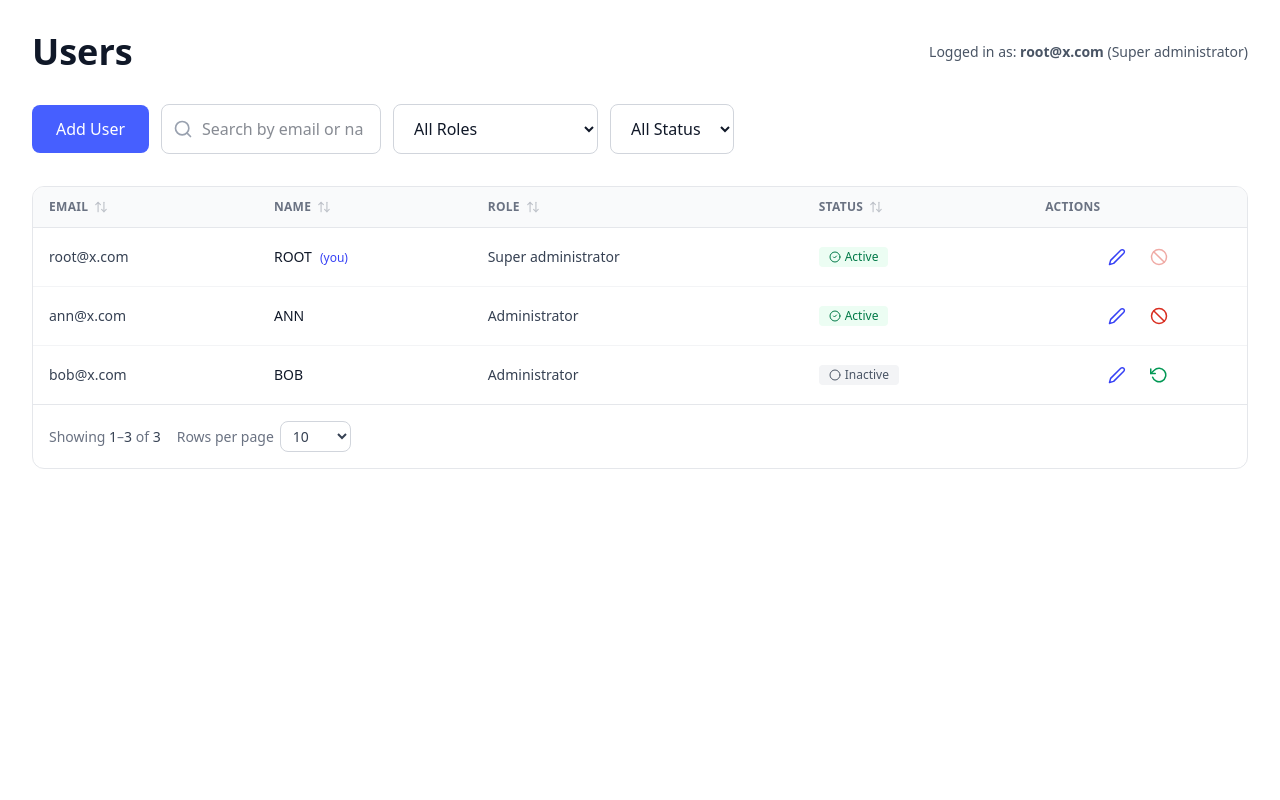
Test case: Users › will not create without a valid email, or with a short password
Click the button "Add User": [91, 129] box [32,105,149,153]
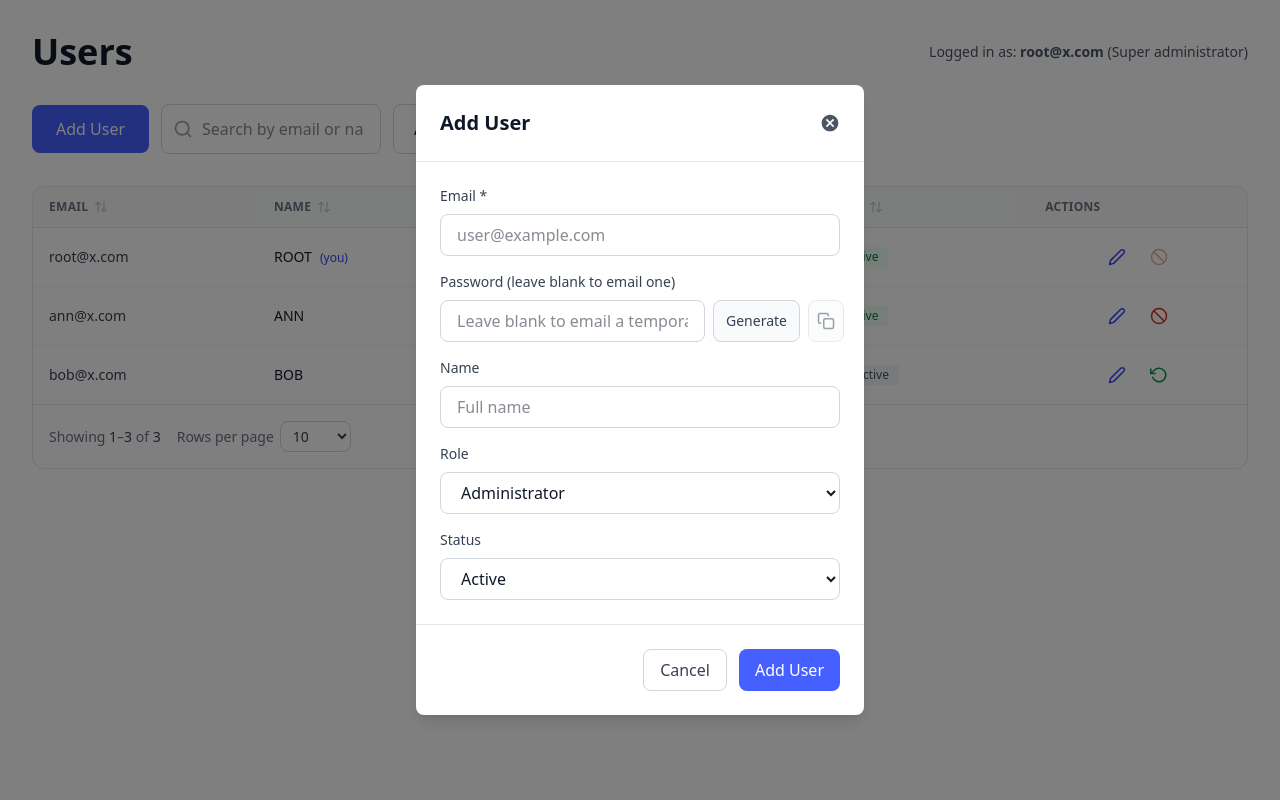
In the field labelled "Email *": [640, 235] box [440,214,840,256], type "nope"
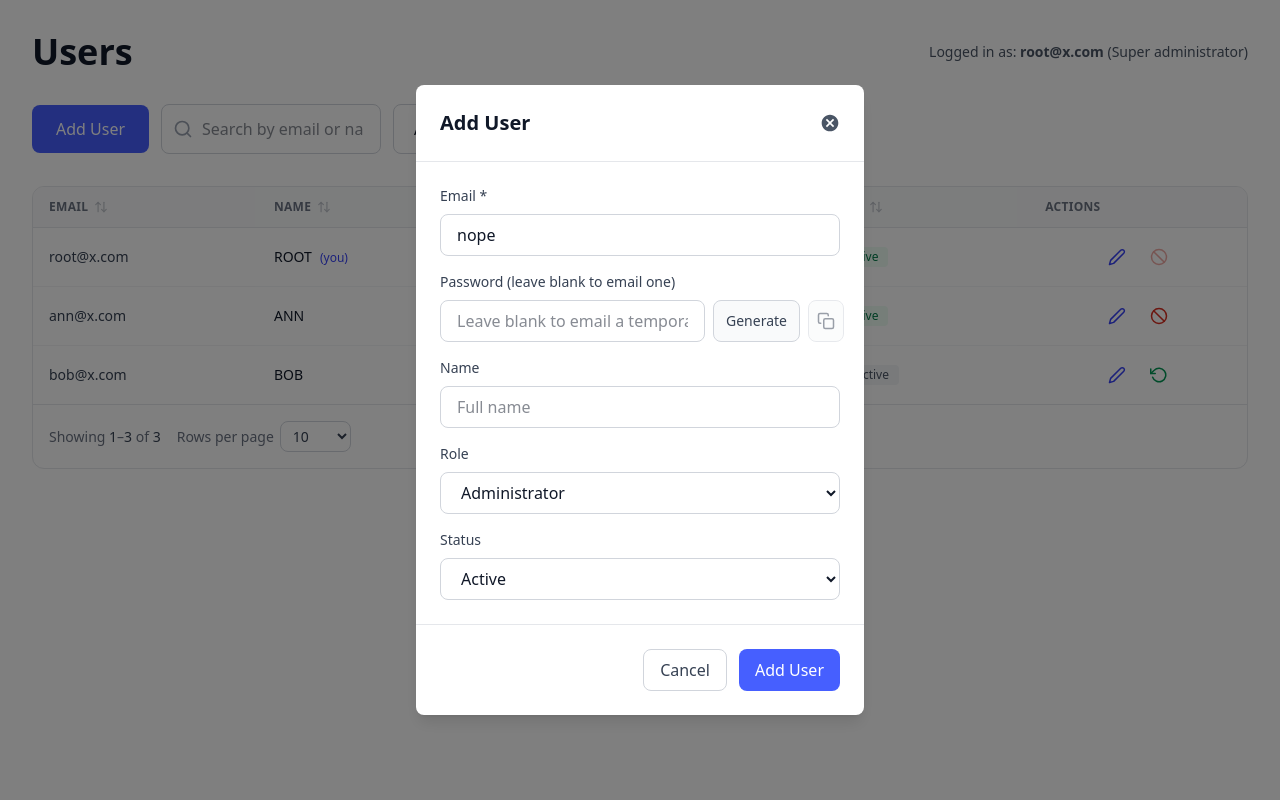
In the field labelled "Password (leave blank to email one)": [572, 321] box [440,300,705,342], type "abc"
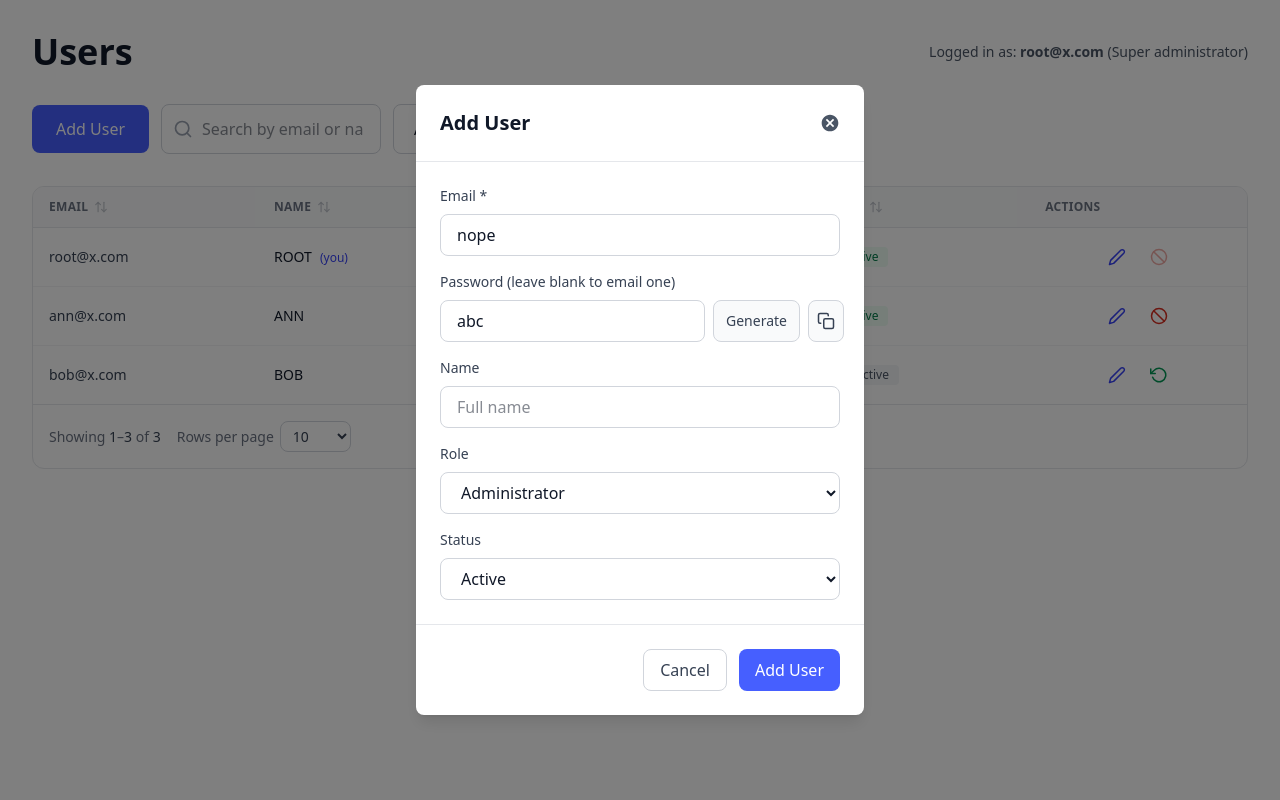
Click the button "Add User": [789, 670] box [739,649,840,691]
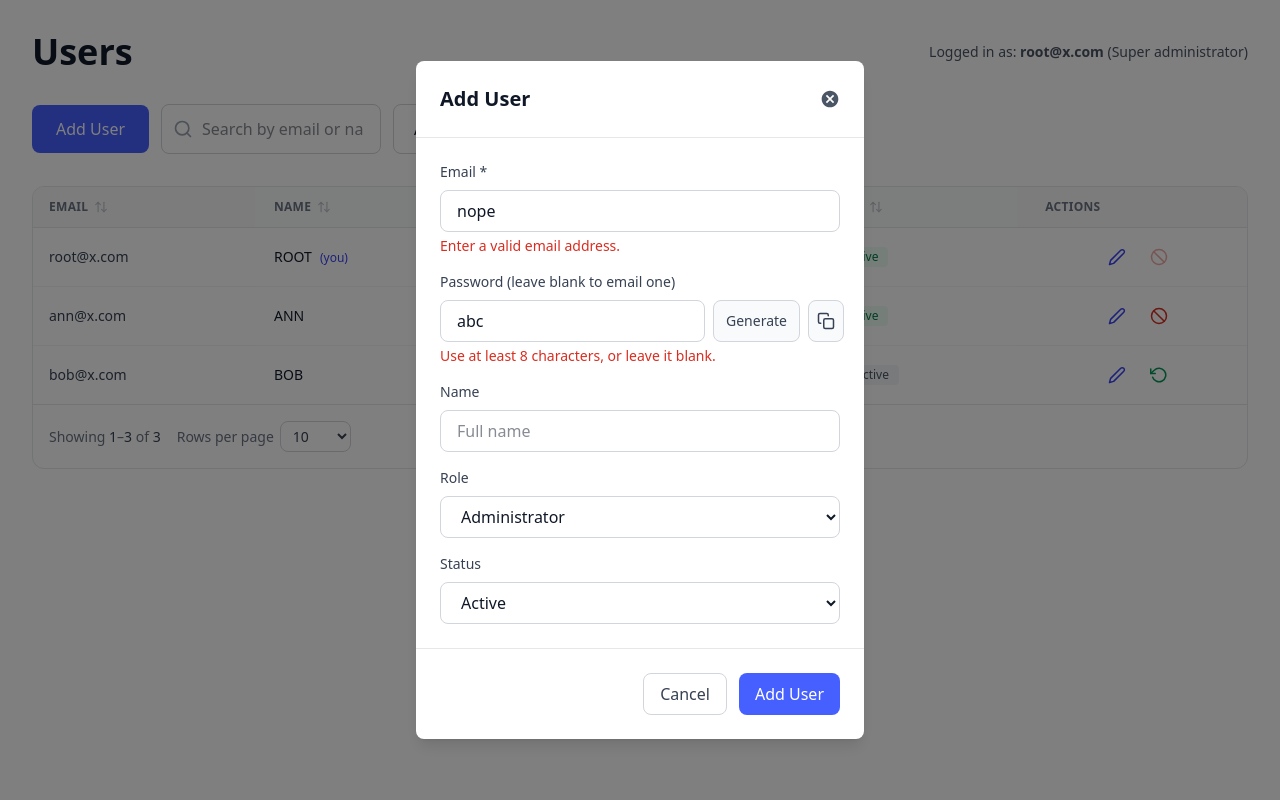
Now the text "Enter a valid email address." is shown, box [440,236,620,255]
Now the text "Use at least 8 characters, or leave it blank." is shown, box [440,346,716,365]
